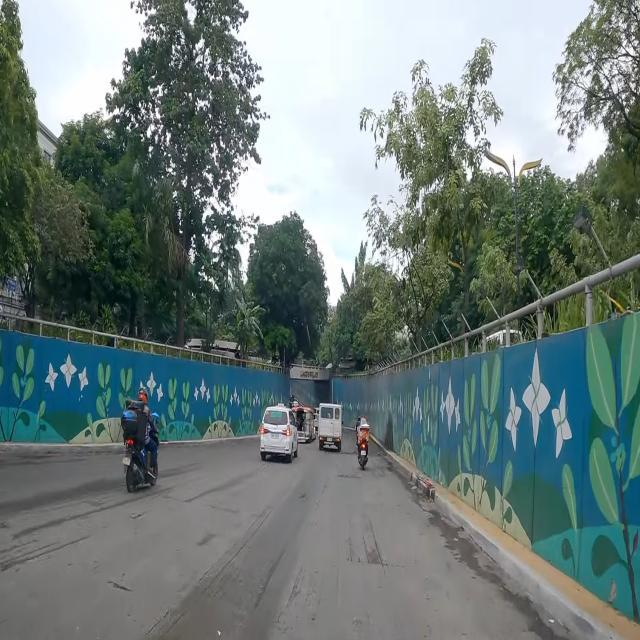car: (260, 404, 298, 464)
jeepney: (291, 407, 316, 445)
motorcycle: (120, 388, 160, 494), (358, 416, 370, 469)
truck: (318, 403, 344, 453)
